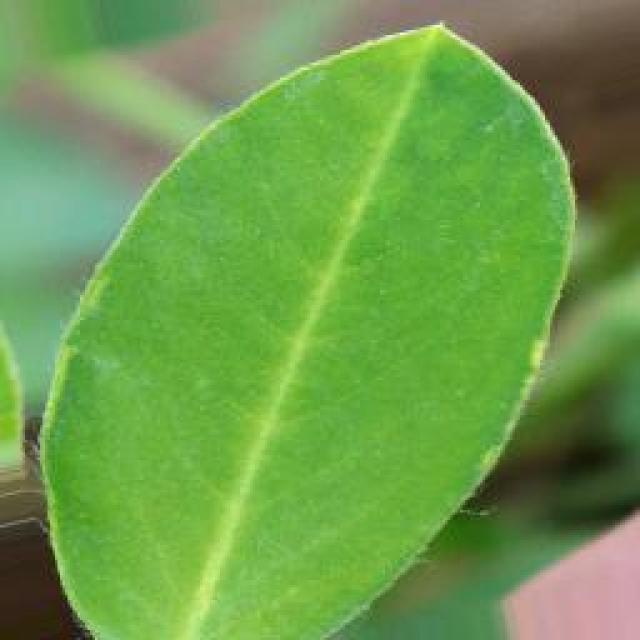Yellow_and_black_sigatoka: (27, 21, 582, 640)
